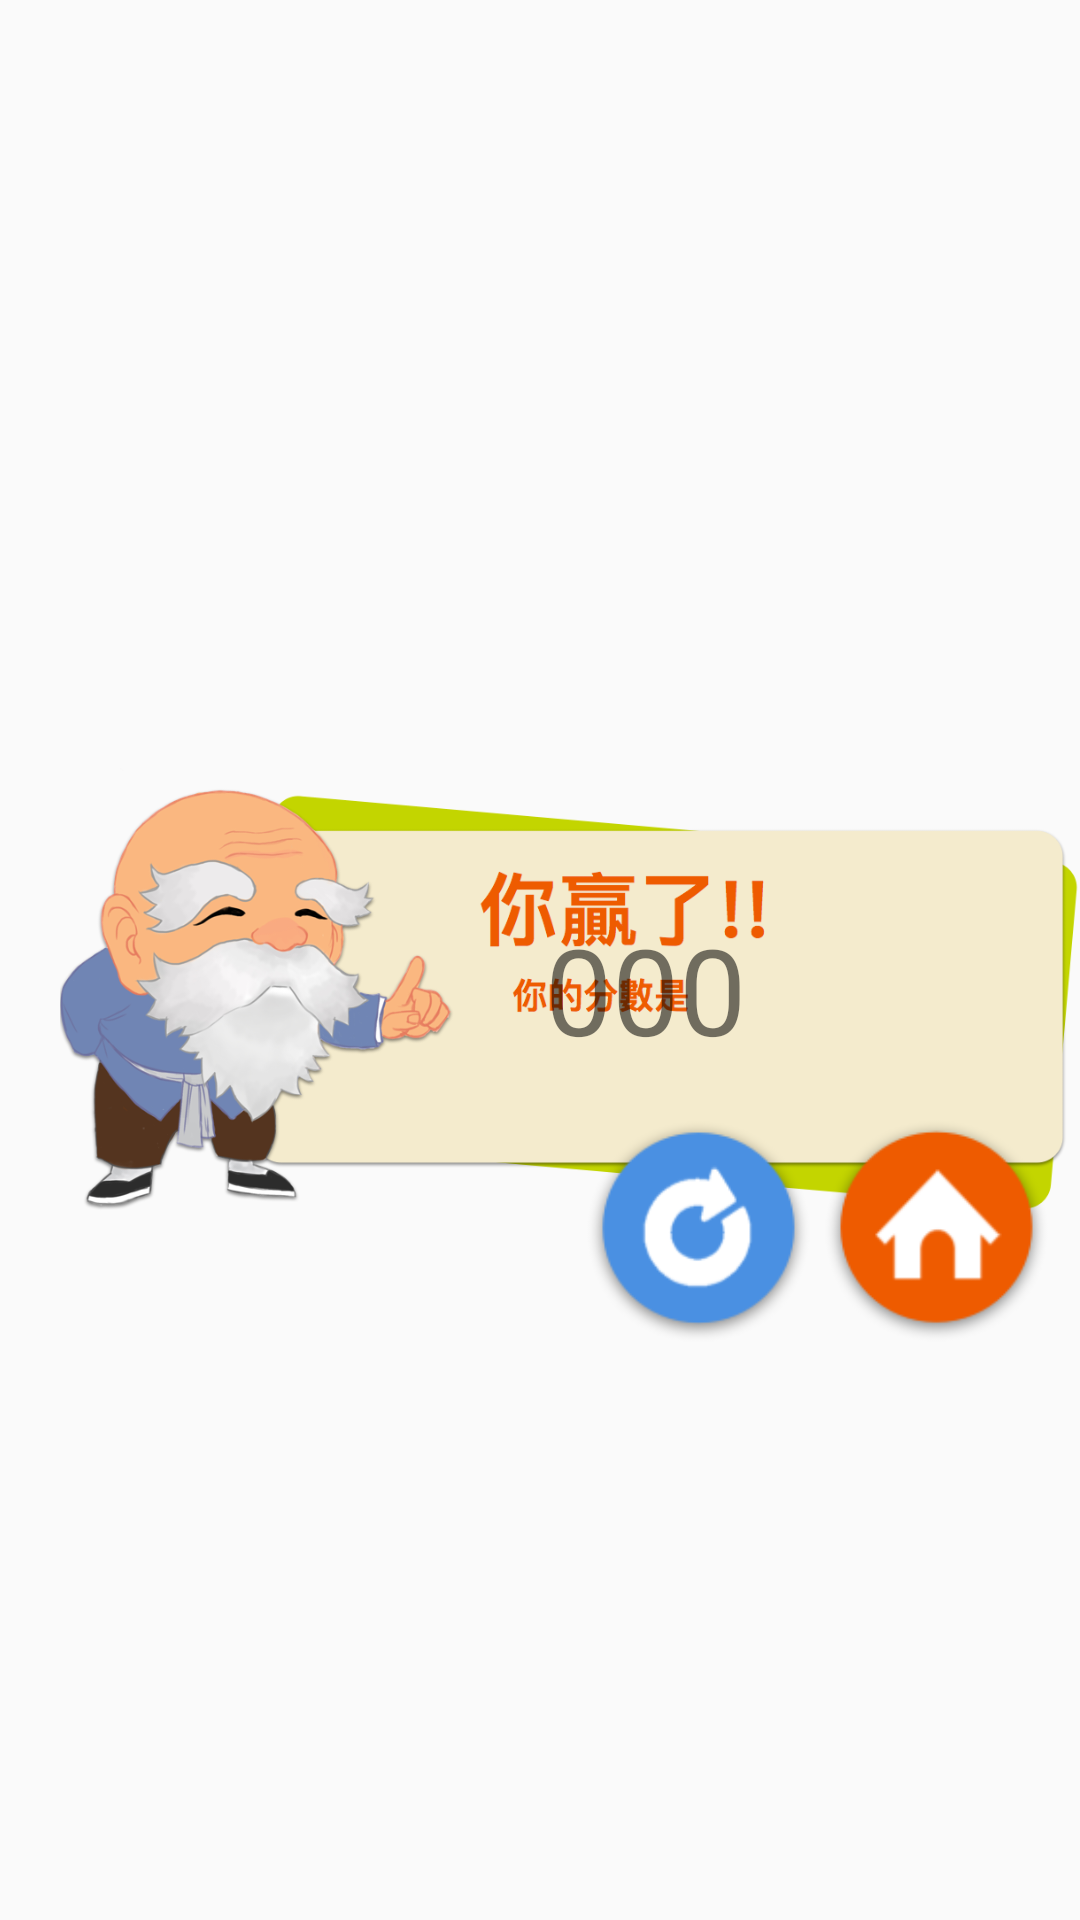

Screen size 1080w x 1920h. Icon name, then its box in pixels as (x1, y1, x2, y2):
scoreboard home: (825, 1119, 1050, 1332)
scoreboard replay: (585, 1119, 810, 1333)
